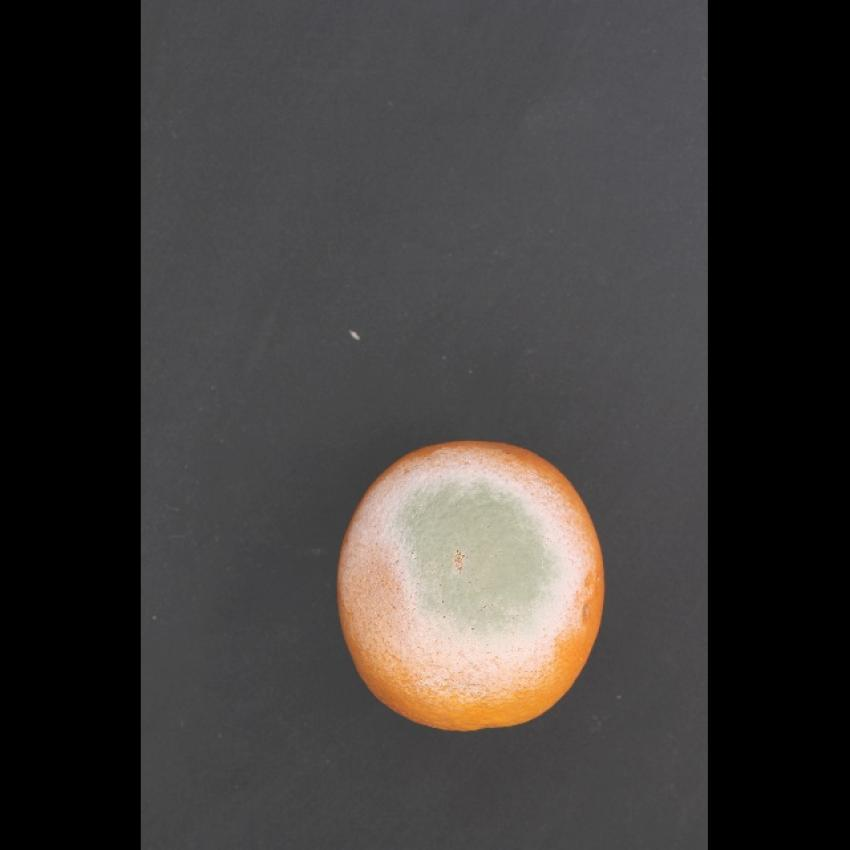Mal estado: (330, 436, 613, 733)
